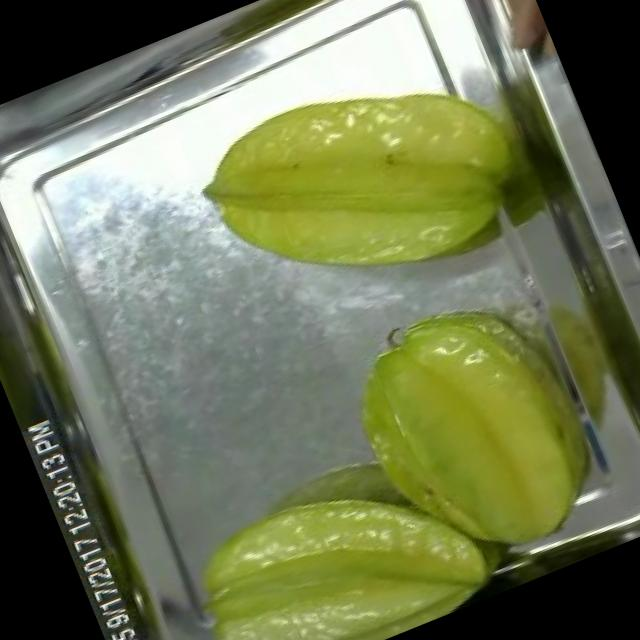fruit: (179, 20, 566, 344), (310, 257, 640, 605), (148, 419, 520, 640)
